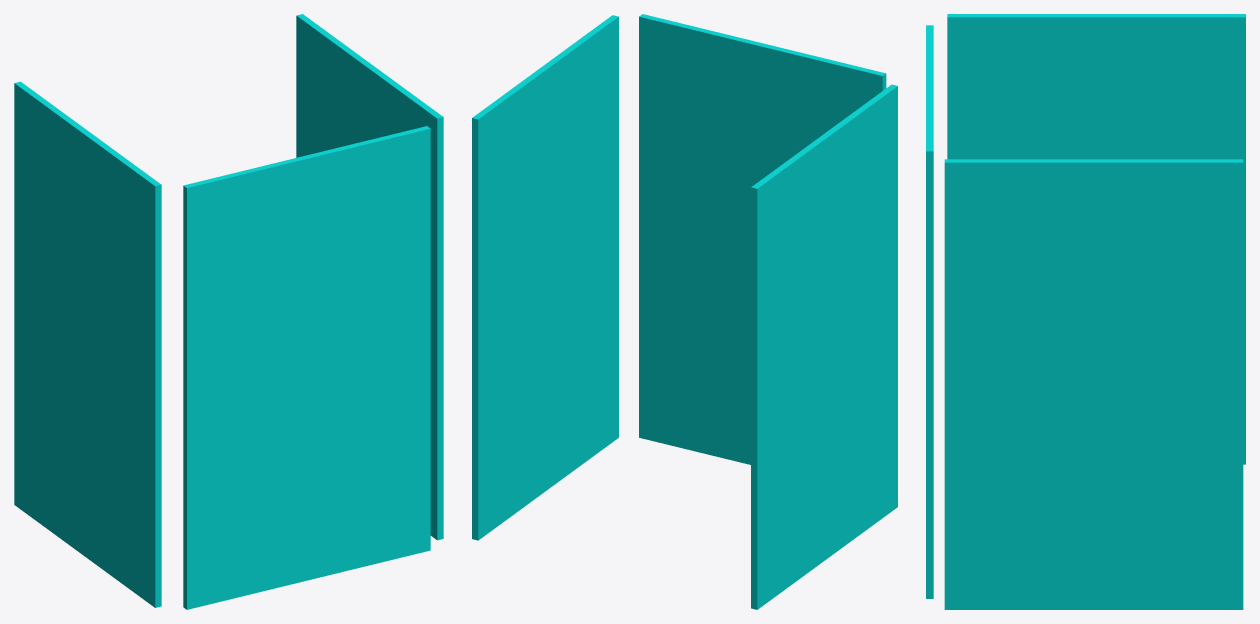
File: ClawMachine_glass.fbx
3 renders of one model, left to right at view 1: azimuth 30°, elevation 25°; view 2: azimuth 150°, elevation 25°; view 3: azimuth 270°, elevation 25°, orthographic. The views are drawn at different scales.
Parts seen in each view (by area): view 1: pCube50, pCube80, pCube81; view 2: pCube80, pCube81, pCube50; view 3: pCube81, pCube80, pCube50.
Part boxes in pixels (left/top/right/bottom): pCube50: left=183, top=126, right=430, bottom=609; pCube80: left=14, top=81, right=161, bottom=607; pCube81: left=296, top=14, right=443, bottom=540; pCube80: left=751, top=84, right=897, bottom=609; pCube81: left=472, top=15, right=618, bottom=540; pCube50: left=639, top=14, right=886, bottom=464; pCube81: left=944, top=159, right=1243, bottom=609; pCube80: left=947, top=14, right=1245, bottom=464; pCube50: left=926, top=25, right=933, bottom=598.
Bounding box in the file's own units: 94.24 × 132 × 85.71.
